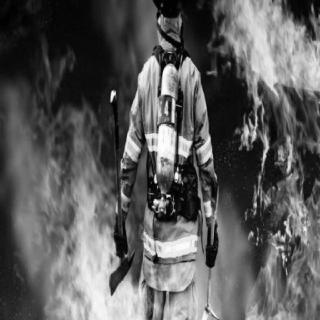Fire: (5, 33, 144, 317), (206, 0, 318, 316)
